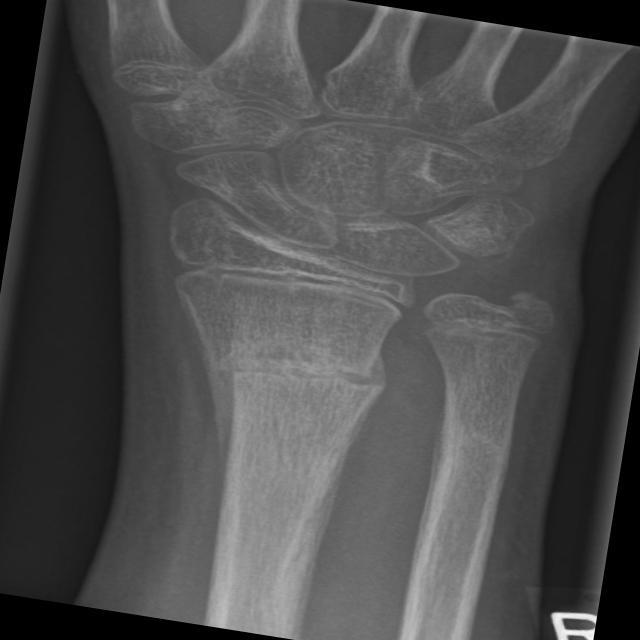fracture: (152, 238, 426, 333), (189, 332, 404, 421), (394, 290, 565, 358)
